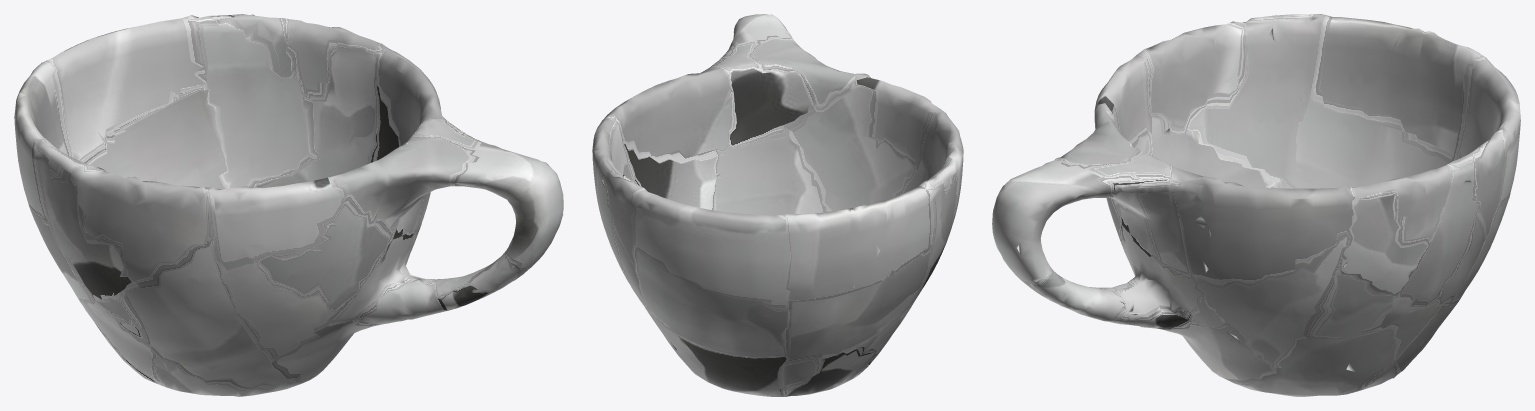
File: cup.draco.glb
3 renders of one model, left to right at view 1: azimuth 30°, elevation 25°; view 2: azimuth 150°, elevation 25°; view 3: azimuth 270°, elevation 25°, orthographic. The views are drawn at different scales.
Parts seen in each view (by area): view 1: cup; view 2: cup; view 3: cup.
Part boxes in pixels (x1,y1,x2,y2): cup: (14, 14, 563, 396); cup: (592, 14, 963, 396); cup: (992, 14, 1520, 396).
Size of the model in its own units: 0.1702 by 0.11 by 0.207.
1 material, 1 textured.
